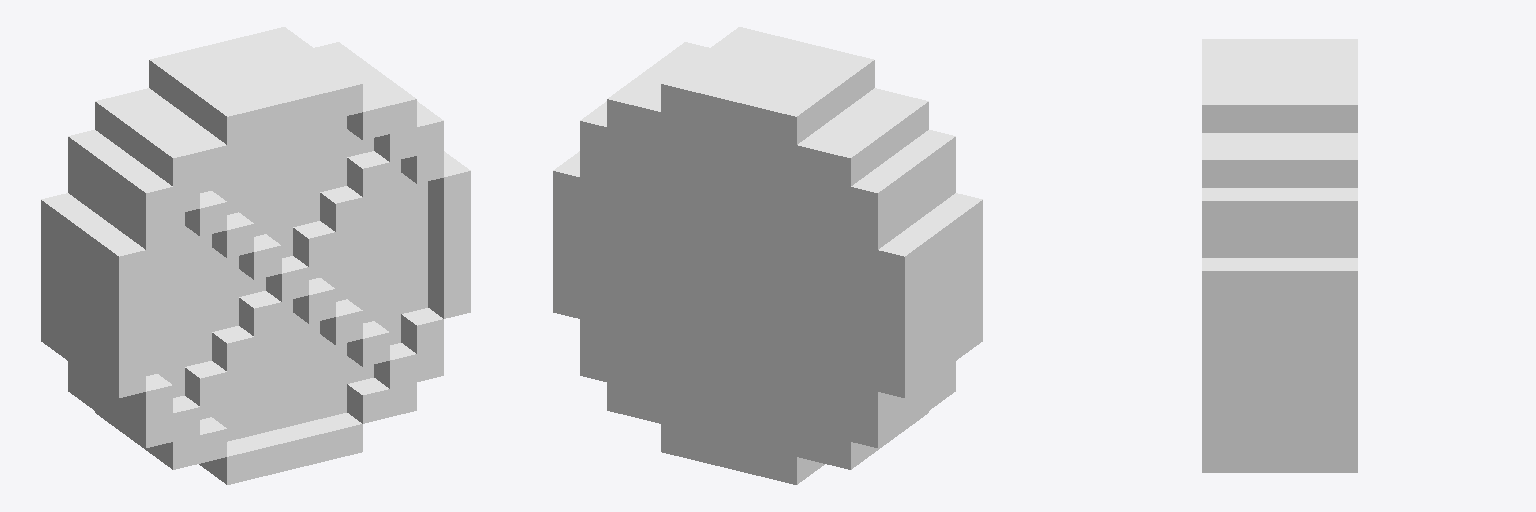
File: carrinho_roda.obj
3 views of the same model, side by side, from view 1: azimuth 30°, elevation 25°; view 2: azimuth 150°, elevation 25°; view 3: azimuth 270°, elevation 25° (orthographic).
Visible parts, largest first — view 1: carrinho_roda; view 2: carrinho_roda; view 3: carrinho_roda.
Part boxes in pixels (bbox=[...]): carrinho_roda: bbox=[41, 27, 470, 484]; carrinho_roda: bbox=[553, 27, 982, 484]; carrinho_roda: bbox=[1202, 39, 1357, 472].
Size of the model in its own units: 13 by 13 by 5.